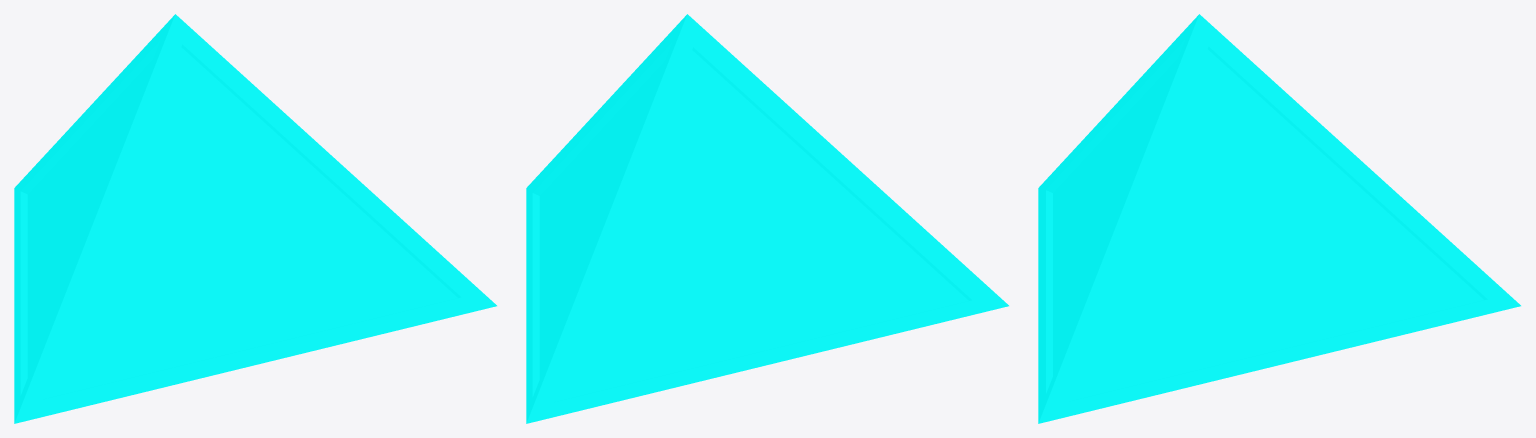
The model's file is SFI0310001.fbx.
3 views of the same model, side by side, from view 1: azimuth 30°, elevation 25°; view 2: azimuth 150°, elevation 25°; view 3: azimuth 270°, elevation 25° (orthographic).
Visible parts, largest first — view 1: smSFI0310001; view 2: smSFI0310001; view 3: smSFI0310001.
Part boxes in pixels (x1=…): smSFI0310001: x1=14, y1=14, x2=496, y2=423; smSFI0310001: x1=526, y1=14, x2=1008, y2=423; smSFI0310001: x1=1038, y1=14, x2=1520, y2=423.
Bounding box in the file's own units: 173 × 100 × 150.
